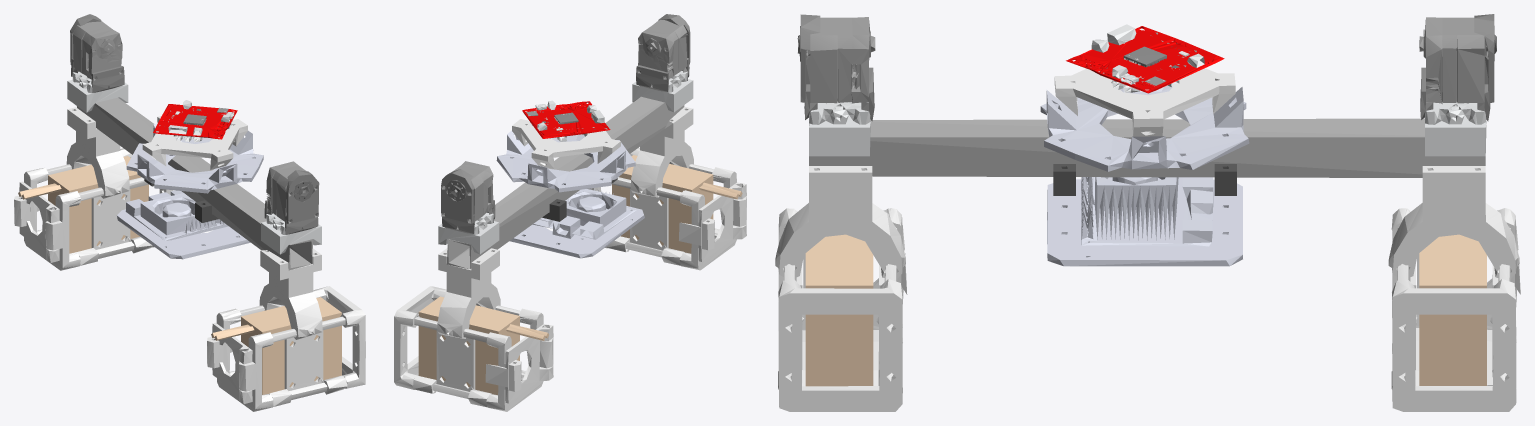
The picture shows the model from 3 angles, left to right: view 1: azimuth 30°, elevation 25°; view 2: azimuth 150°, elevation 25°; view 3: azimuth 270°, elevation 25°; orthographic projection. The views are drawn at different scales.
Visible parts, largest first — view 1: Shape_IndexedFaceSet; view 2: Shape_IndexedFaceSet; view 3: Shape_IndexedFaceSet.
Part boxes in pixels (x1=…): Shape_IndexedFaceSet: x1=14, y1=14, x2=365, y2=411; Shape_IndexedFaceSet: x1=394, y1=14, x2=746, y2=411; Shape_IndexedFaceSet: x1=775, y1=14, x2=1520, y2=411.
Size of the model in its own units: 0.1088 by 0.3305 by 0.1727.
